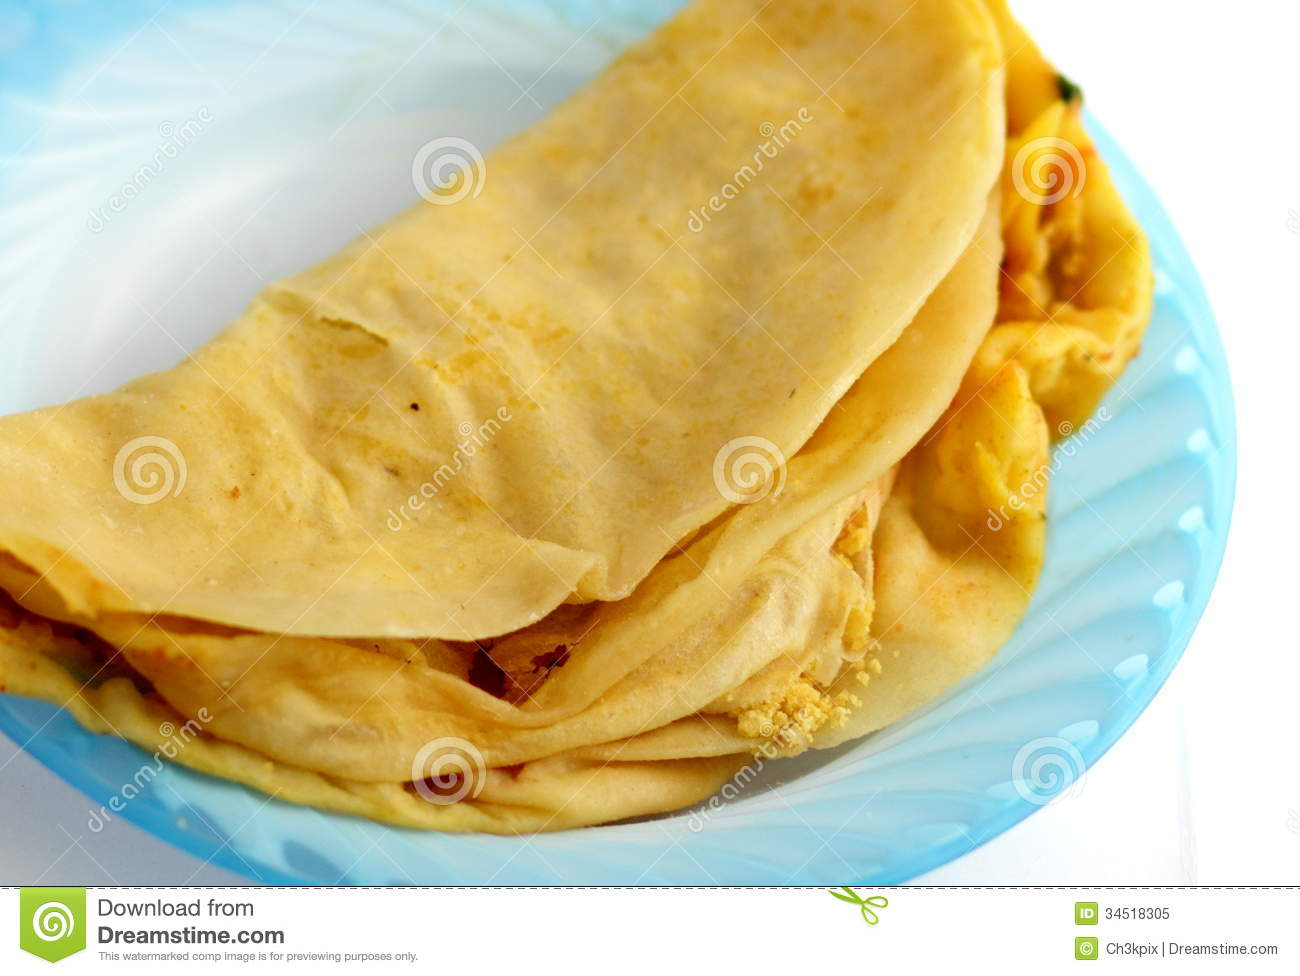Farata: (27, 29, 1157, 859)
